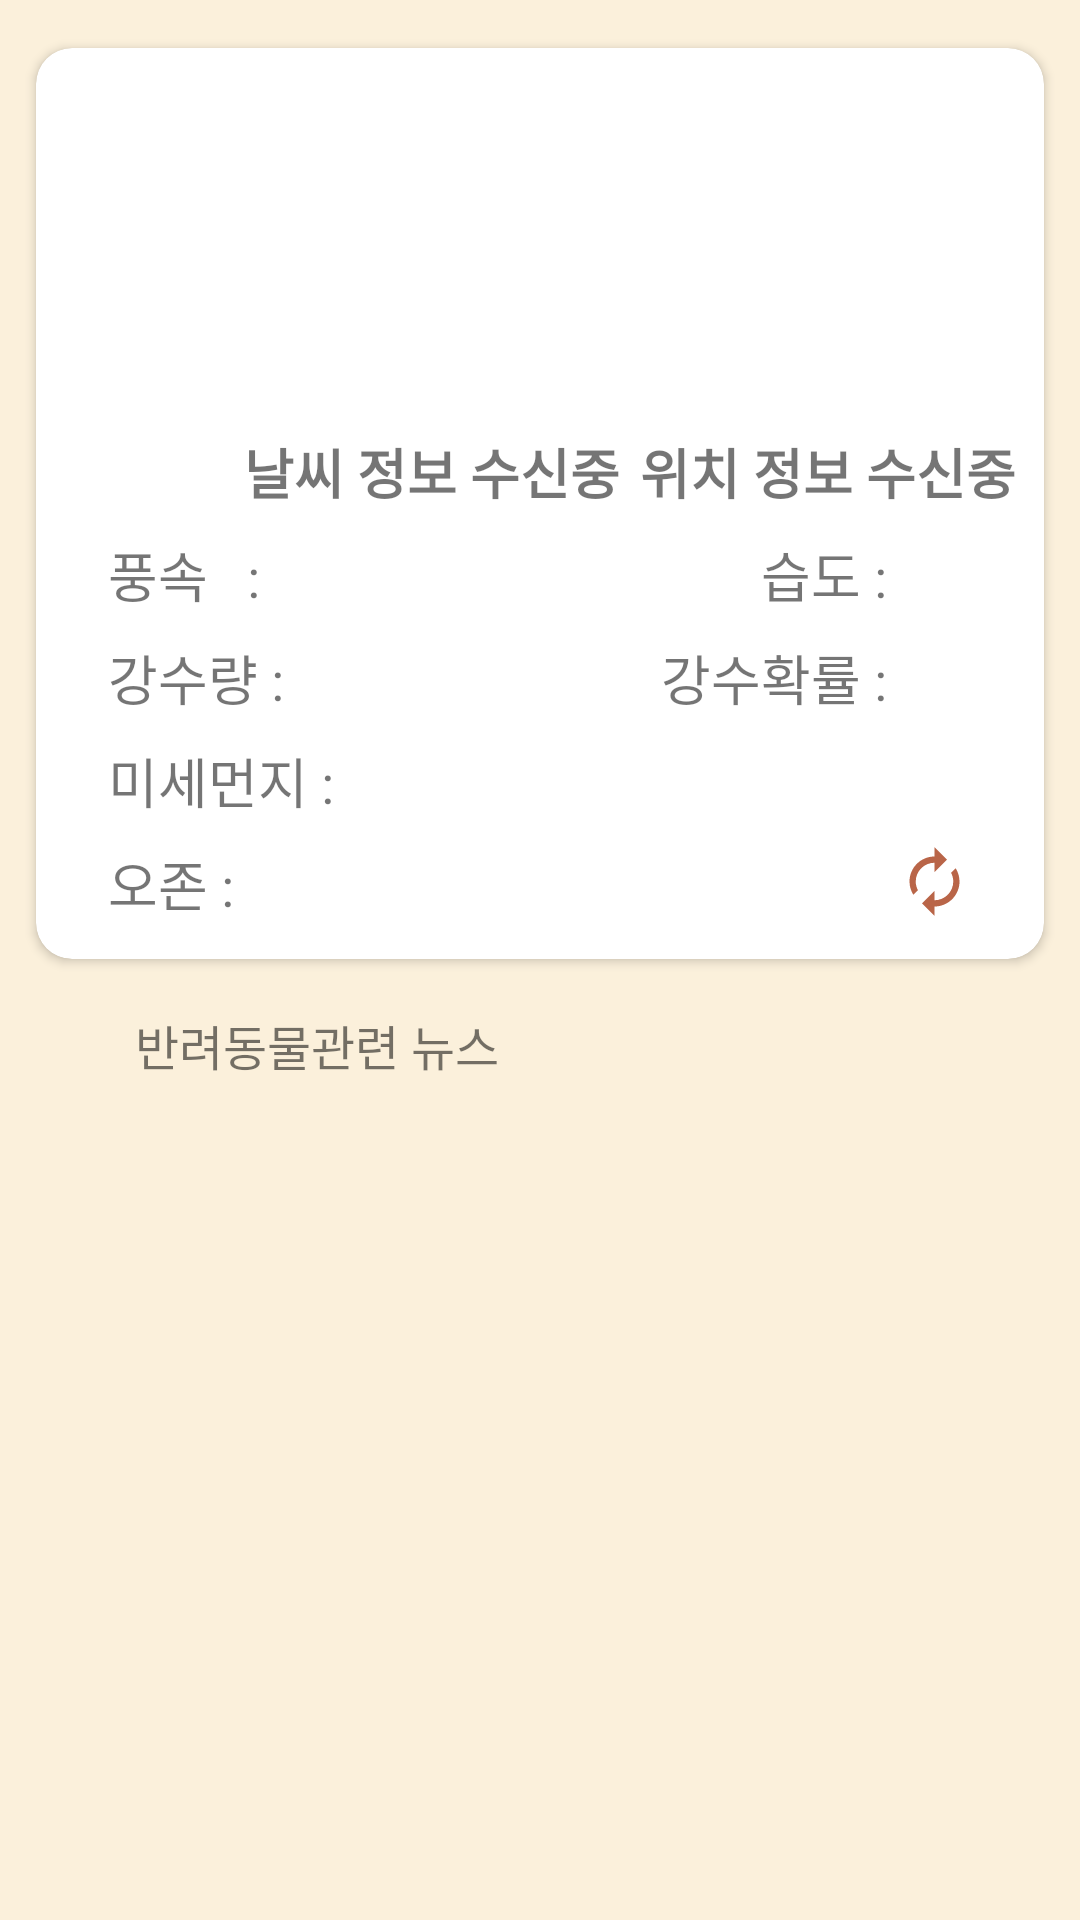

Icons on this 1080x1920 Android screen, each with its box as (x1, y1, x2, y2):
autorenew: (909, 847, 960, 916)
